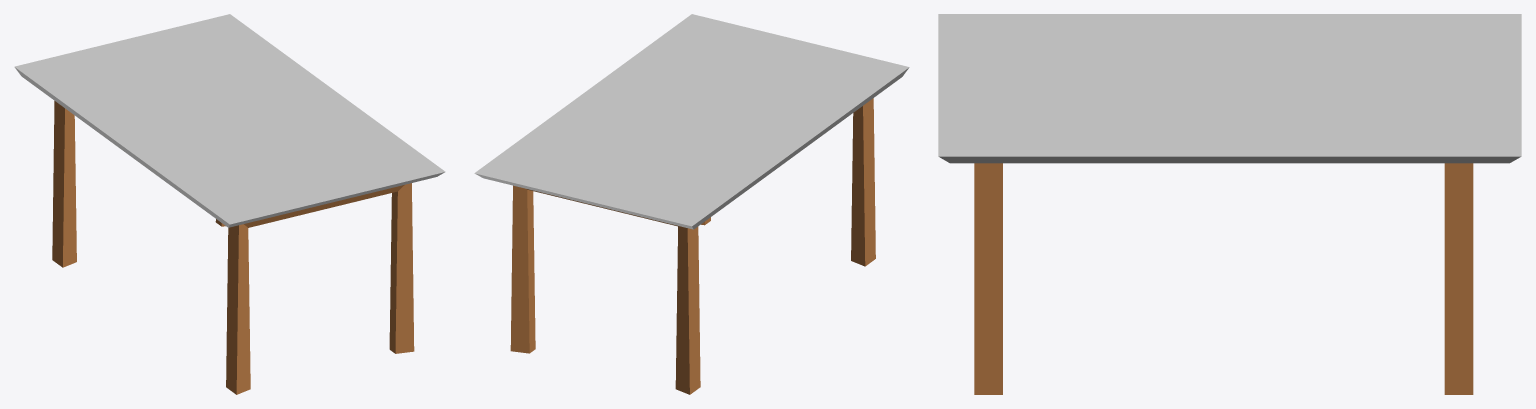
File: table.fbx
The picture shows the model from 3 angles, left to right: view 1: azimuth 30°, elevation 25°; view 2: azimuth 150°, elevation 25°; view 3: azimuth 270°, elevation 25°; orthographic projection. The views are drawn at different scales.
Parts seen in each view (by area): view 1: Cube; view 2: Cube; view 3: Cube.
Boxes of the visible parts, x1,y1,x2,y2 form: Cube: (14, 14, 445, 394); Cube: (474, 14, 909, 394); Cube: (938, 14, 1521, 394).
Size of the model in its own units: 269 by 220 by 466.
